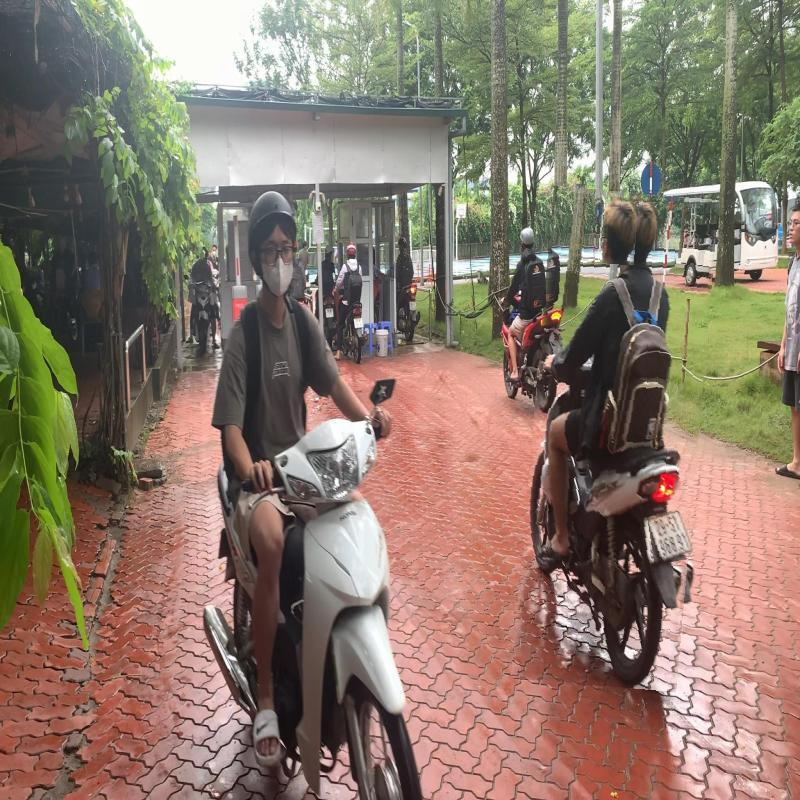licenseplate: (650, 511, 692, 563)
motorcyclist: (522, 189, 709, 690)
nohelmet: (602, 196, 638, 264)
